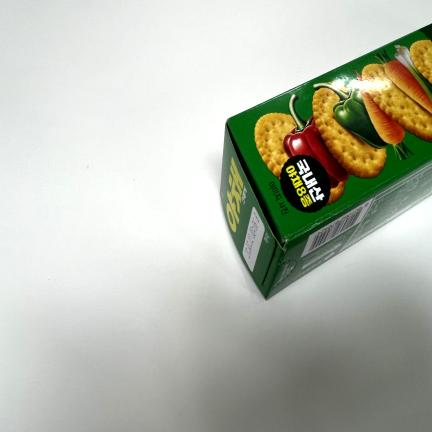cracker_vege: (219, 25, 432, 298)
